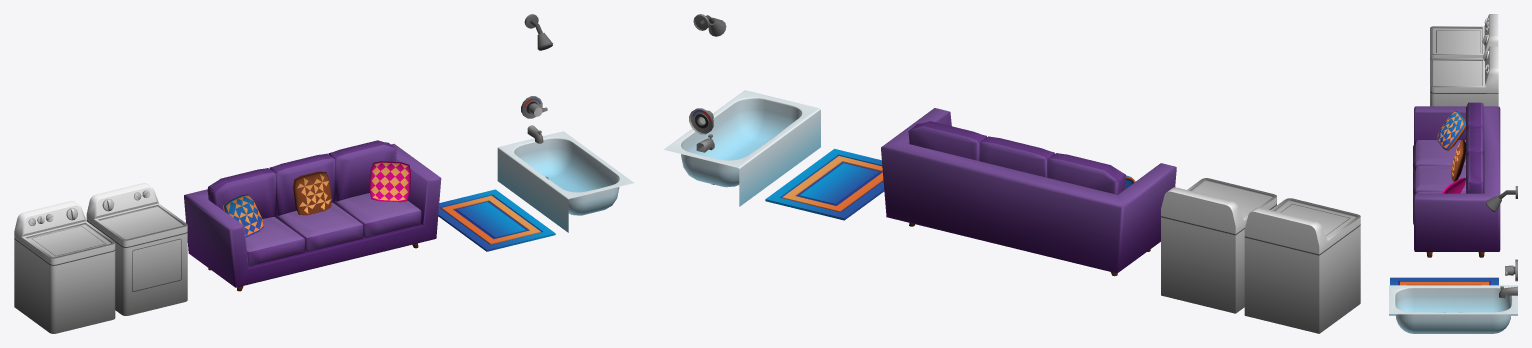
The model's file is furniture_collection.glb.
The picture shows the model from 3 angles, left to right: view 1: azimuth 30°, elevation 25°; view 2: azimuth 150°, elevation 25°; view 3: azimuth 270°, elevation 25°; orthographic projection. The views are drawn at different scales.
Visible parts, largest first — view 1: Couch, Washer, Dryer, Bathtub, Rug_01 - Default_0; view 2: Couch, Washer, Bathtub, Dryer, Rug_01 - Default_0, Shower Head; view 3: Couch, Bathtub, Dryer, Washer, Rug_01 - Default_0, Shower Head.
Part boxes in pixels (<box>): Couch: <box>184,140,441,291</box>; Washer: <box>14,201,115,333</box>; Dryer: <box>86,183,187,315</box>; Bathtub: <box>497,96,633,232</box>; Rug_01 - Default_0: <box>438,189,555,251</box>; Couch: <box>881,108,1176,276</box>; Washer: <box>1244,198,1360,333</box>; Bathtub: <box>663,90,820,206</box>; Dryer: <box>1161,178,1276,313</box>; Rug_01 - Default_0: <box>765,148,884,220</box>; Shower Head: <box>693,14,726,36</box>; Couch: <box>1413,102,1500,257</box>; Bathtub: <box>1389,259,1517,333</box>; Dryer: <box>1430,46,1498,106</box>; Washer: <box>1430,14,1498,105</box>; Rug_01 - Default_0: <box>1390,277,1498,285</box>; Shower Head: <box>1486,186,1517,211</box>.
Bounding box in the file's own units: 1231 × 333 × 270.
Materials: 6 (6 with a texture image).
